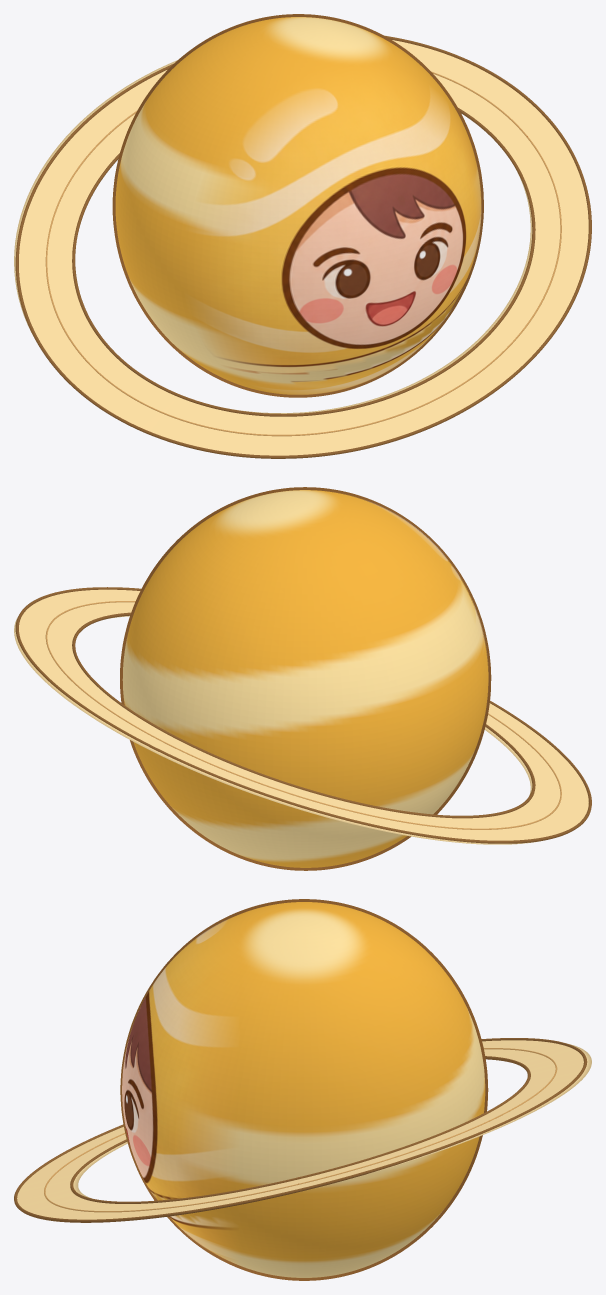
Rendered from theme-saturn.glb.
3 renders of one model, top to bottom at view 1: azimuth 30°, elevation 25°; view 2: azimuth 150°, elevation 25°; view 3: azimuth 270°, elevation 25°, orthographic.
Parts seen in each view (by area): view 1: PlanetSolidOriginalPaint, PlanetSolid, SaturnRingSolid, RingBorder220, PlanetSolidInkShell, RingBorder246; view 2: PlanetSolid, SaturnRingSolid, RingBorder220, PlanetSolidInkShell, RingBorder246, PlanetSolidOriginalPaint; view 3: PlanetSolid, PlanetSolidOriginalPaint, SaturnRingSolid, RingBorder220, PlanetSolidInkShell, RingBorder246.
Boxes of the visible parts, x1,y1,x2,y2 form: PlanetSolidOriginalPaint: (190, 69, 527, 394); PlanetSolid: (115, 17, 480, 394); SaturnRingSolid: (14, 35, 588, 455); RingBorder220: (15, 36, 591, 458); PlanetSolidInkShell: (112, 14, 483, 397); RingBorder246: (45, 71, 561, 436); PlanetSolid: (122, 490, 488, 867); SaturnRingSolid: (14, 589, 588, 844); RingBorder220: (15, 587, 591, 843); PlanetSolidInkShell: (120, 487, 491, 870); RingBorder246: (45, 601, 561, 829); PlanetSolidOriginalPaint: (340, 493, 488, 698); PlanetSolid: (152, 902, 485, 1277); PlanetSolidOriginalPaint: (122, 917, 298, 1261); SaturnRingSolid: (17, 1040, 591, 1219); RingBorder220: (14, 1038, 587, 1222); PlanetSolidInkShell: (120, 899, 488, 1280); RingBorder246: (44, 1048, 557, 1212).
Size of the model in its own units: 2.76 by 1.85 by 2.78.
6 materials, 1 textured.
